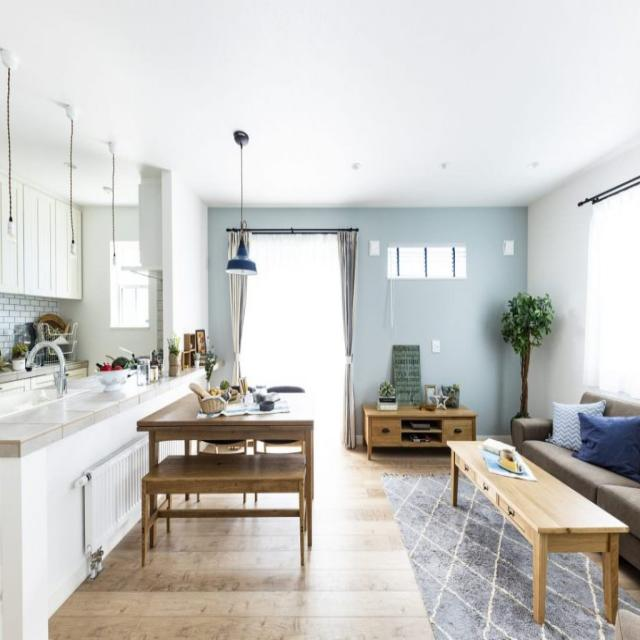natural desk: (444, 434, 624, 624), (140, 458, 314, 572), (135, 386, 317, 456)
natural shelf: (360, 399, 478, 444)
